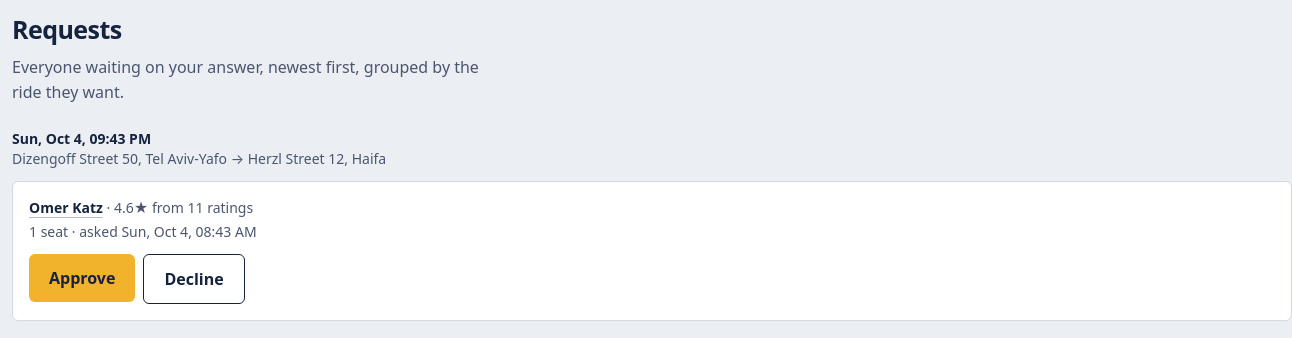
Test: the driver Requests tab › approves from the tab and drops the request off the pending list
Click the button "Approve": (82, 278) [29,254,135,302]
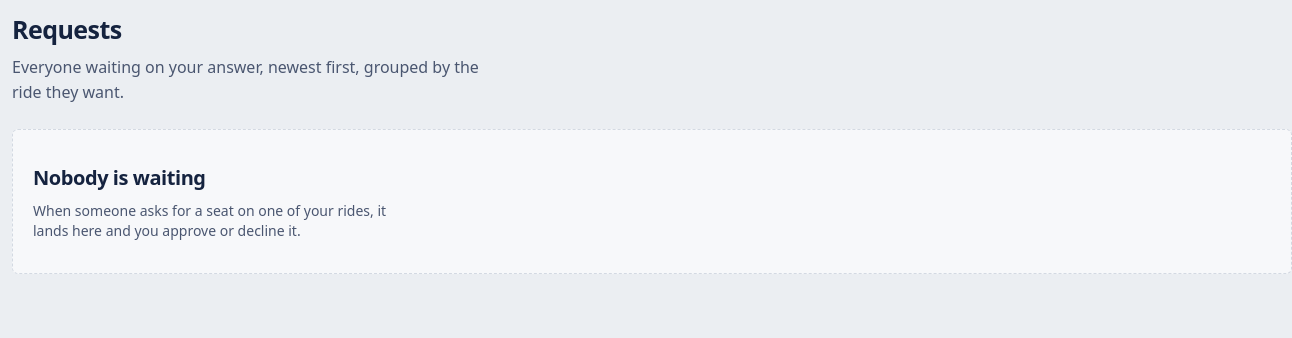
Expected: the heading "Nobody is waiting" is shown, [33,164,206,191]
